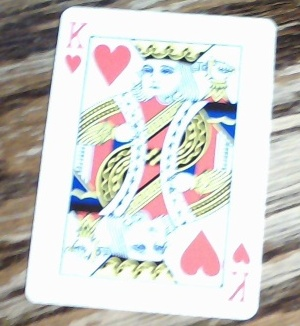card: (22, 5, 277, 321)
